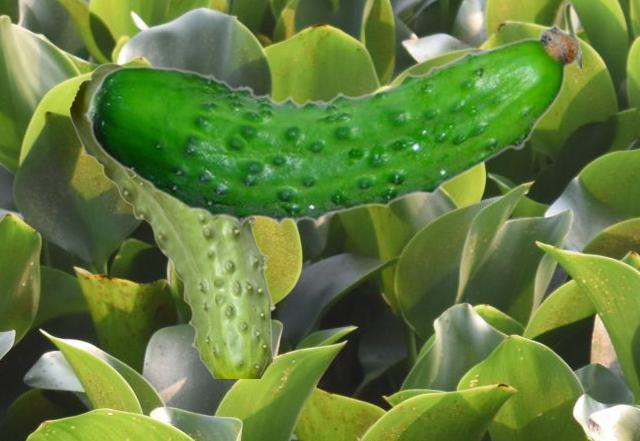cucumber: (83, 1, 580, 226), (68, 62, 276, 377)
